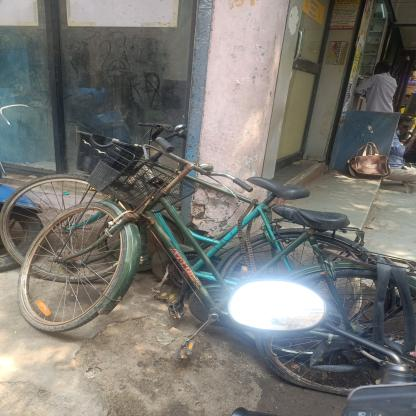bike: (3, 144, 416, 395)
